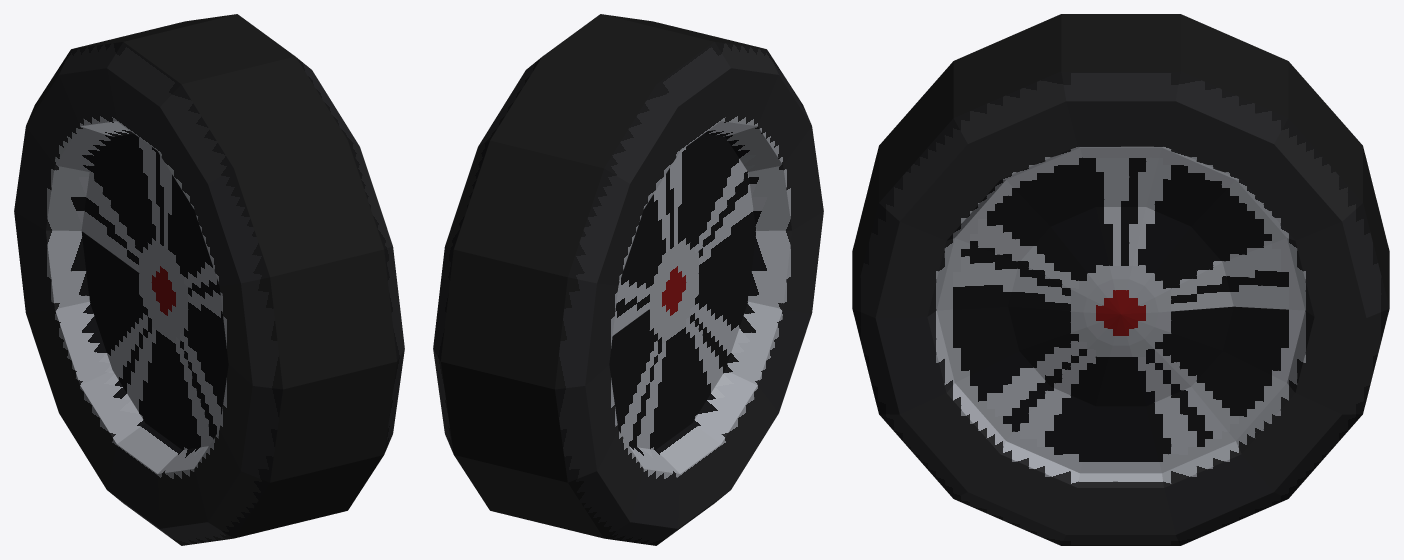
Rendered from wheel_sport16_r.glb.
3 views of the same model, side by side, from view 1: azimuth 30°, elevation 25°; view 2: azimuth 150°, elevation 25°; view 3: azimuth 270°, elevation 25° (orthographic). The views are drawn at different scales.
Visible parts, largest first — view 1: Wheel; view 2: Wheel; view 3: Wheel.
Boxes of the visible parts, x1,y1,x2,y2 form: Wheel: [14, 14, 404, 545]; Wheel: [433, 14, 823, 545]; Wheel: [852, 14, 1389, 545].
Bounding box in the file's own units: 0.195 × 0.5655 × 0.58.
2 materials, 1 textured.
